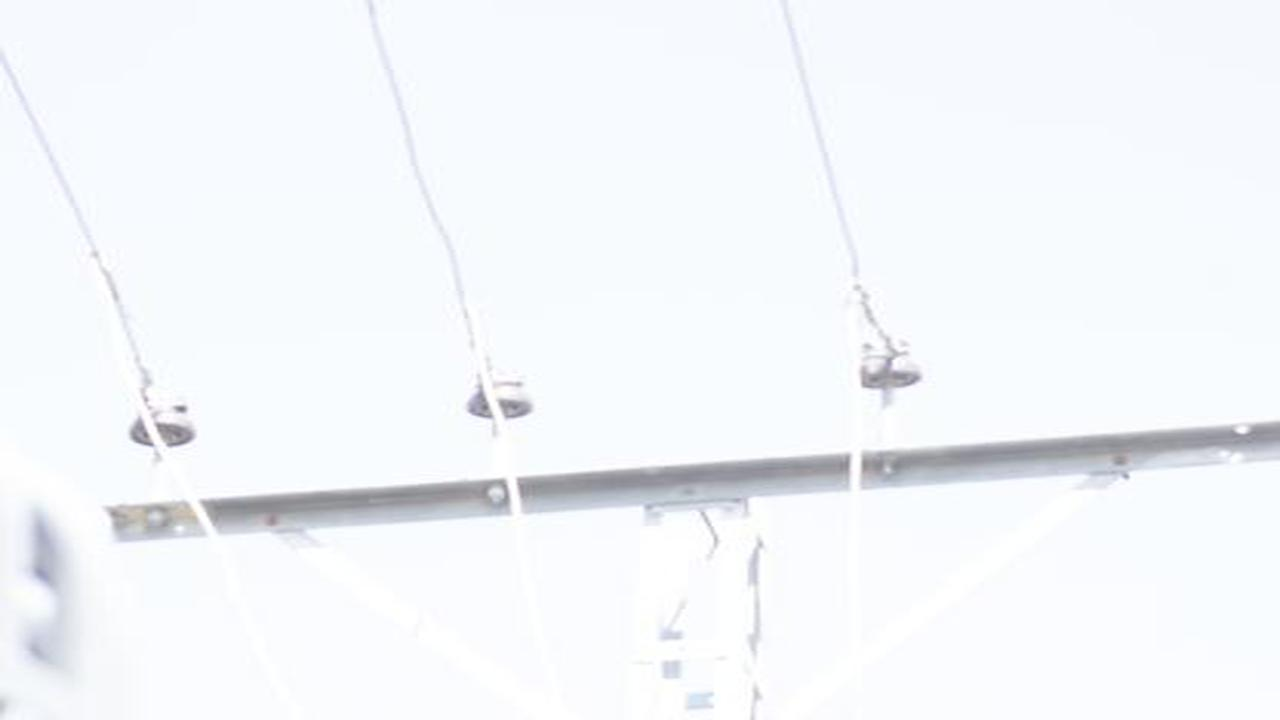insulator_pin: (125, 393, 201, 450), (850, 336, 926, 393), (459, 366, 536, 422)
